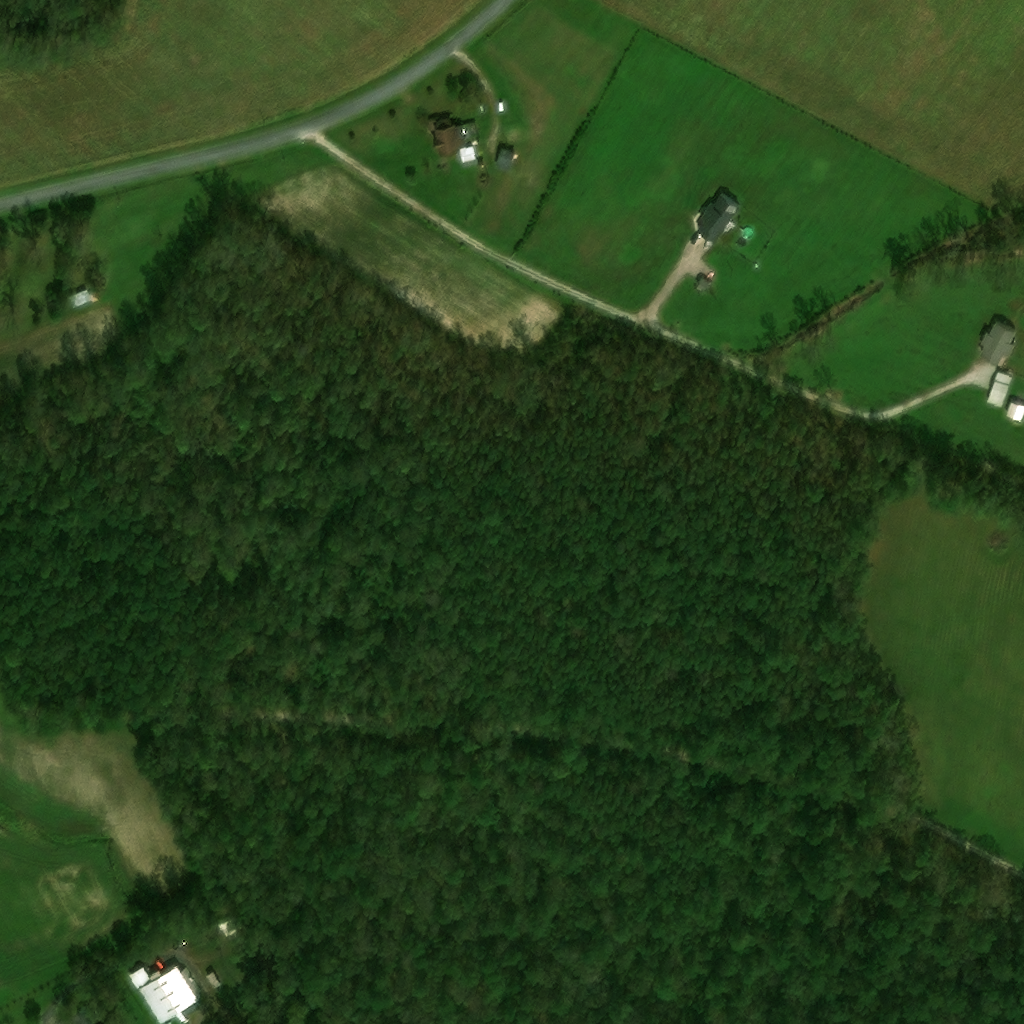no_damage: (126, 965, 200, 1023), (696, 192, 741, 245), (977, 321, 1015, 365), (430, 117, 465, 156), (986, 372, 1013, 408), (68, 289, 99, 309), (74, 1007, 107, 1023), (496, 149, 515, 171), (1004, 402, 1022, 423), (458, 147, 477, 166), (219, 920, 237, 939), (204, 973, 220, 991), (700, 279, 712, 297)
